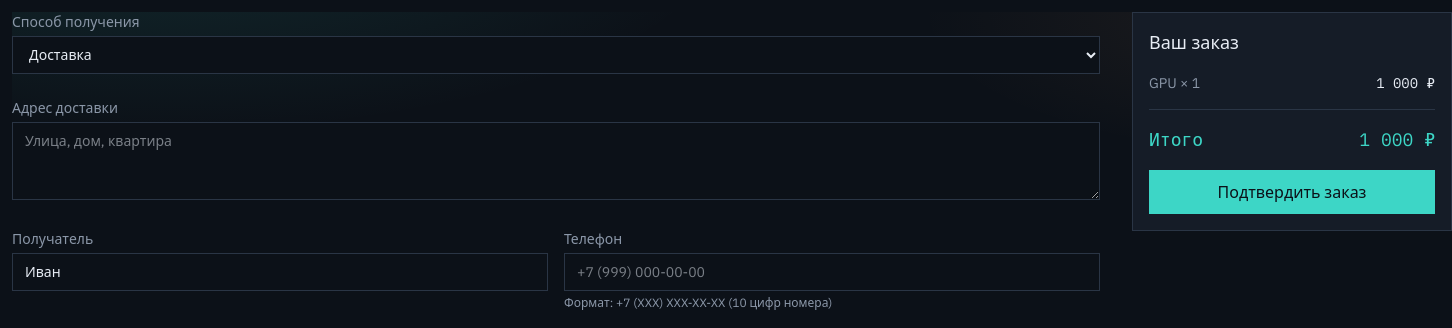
Test: CheckoutForm › shows address for delivery and hides it for pickup
Expected: the text box with test id "checkout-address" is shown, [12,122,1100,200]
Expected: the field with test id "checkout-name" is shown, [12,253,548,291]
Step 1. Select "Самовывоз" in the dropdown with test id "checkout-method" → (556, 55), box [12,36,1100,74]
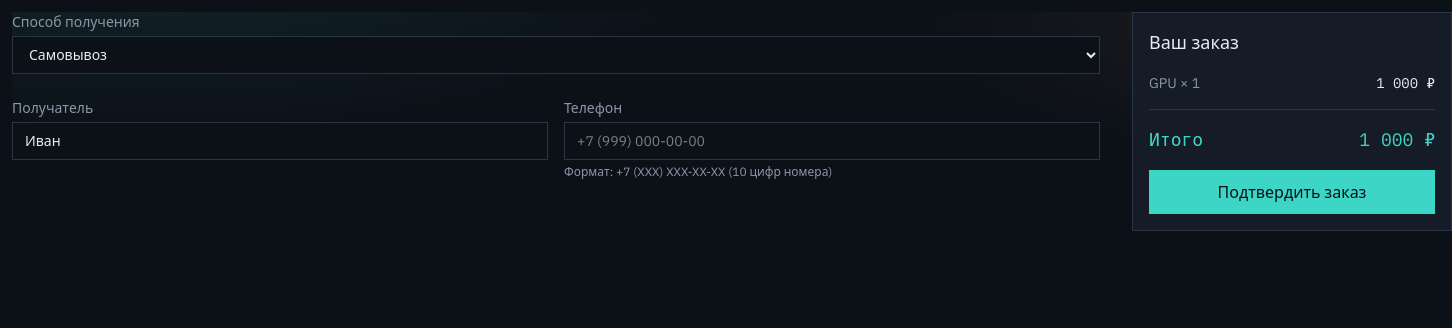
Now the text box with test id "checkout-address" is gone
Step 2. Select "Доставка" in the dropdown with test id "checkout-method" → (556, 55), box [12,36,1100,74]
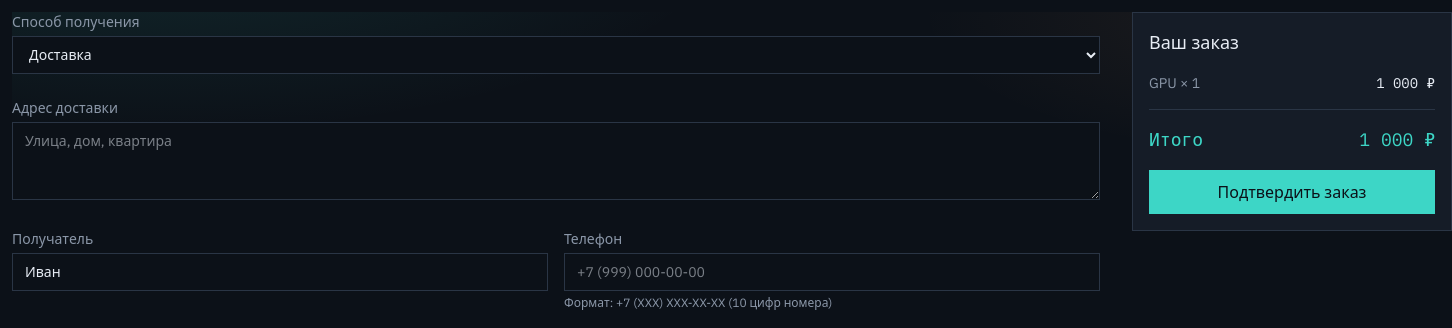
Now the text box with test id "checkout-address" is shown, box [12,122,1100,200]
